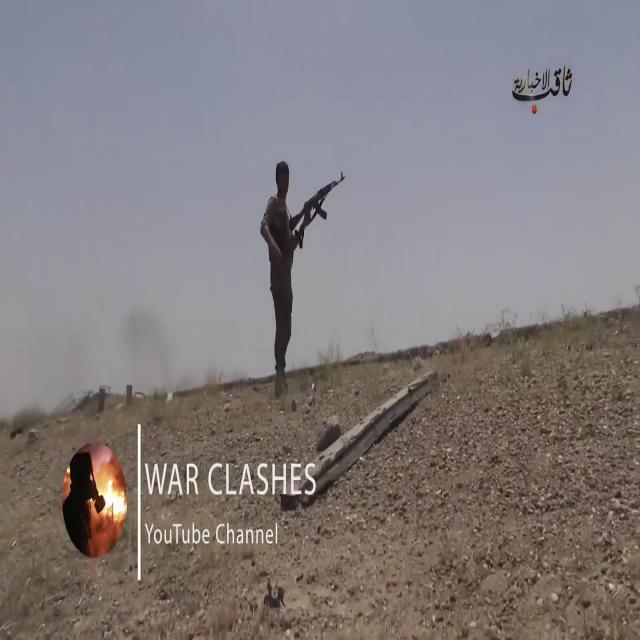long weapon: (282, 156, 346, 258)
